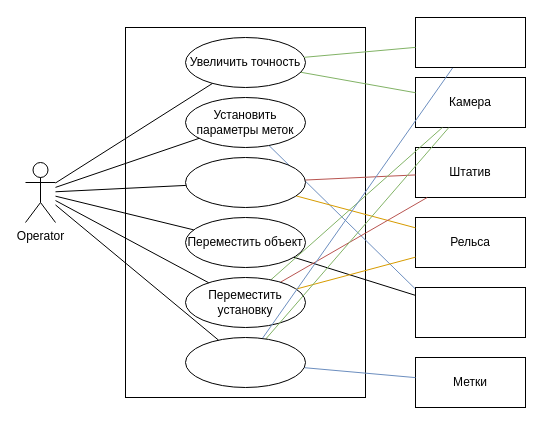
Some shapes in this 543 by 425 pixel diagram are drawn without their labels. The shapes that lost their labels are listed below. From the top down, each one's centre as x and y in pixels, then its label:
At (470,42): "Генератор собственных меток".
At (245,182): "Установить шаг смещения".
At (470,312): "Цель сканирования".
At (245,362): "Установить правило точек".
